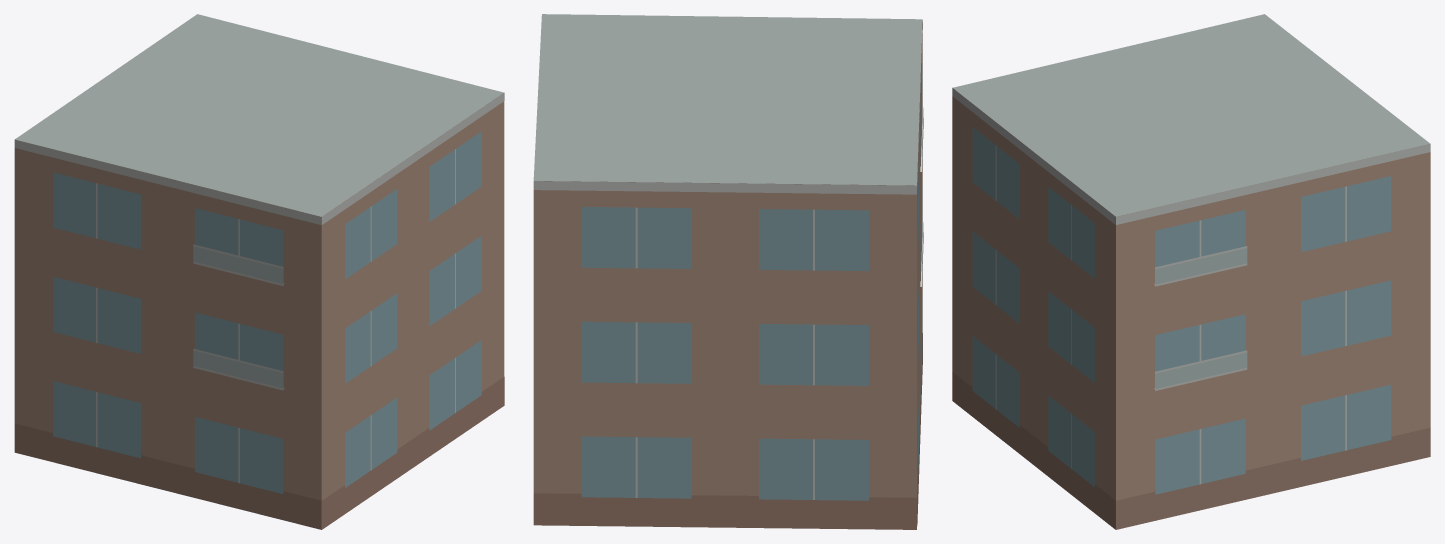
The model's file is survey-upis-32893146.glb.
3 views of the same model, side by side, from view 1: azimuth 30°, elevation 25°; view 2: azimuth 150°, elevation 25°; view 3: azimuth 270°, elevation 25° (orthographic). The views are drawn at different scales.
Visible parts, largest first — view 1: survey-upis-32893146.tmp; view 2: survey-upis-32893146.tmp; view 3: survey-upis-32893146.tmp.
Part boxes in pixels (bbox=[...]): survey-upis-32893146.tmp: bbox=[14, 14, 504, 529]; survey-upis-32893146.tmp: bbox=[533, 14, 923, 529]; survey-upis-32893146.tmp: bbox=[952, 14, 1430, 529].
Bounding box in the file's own units: 12.72 × 9.15 × 12.67.
